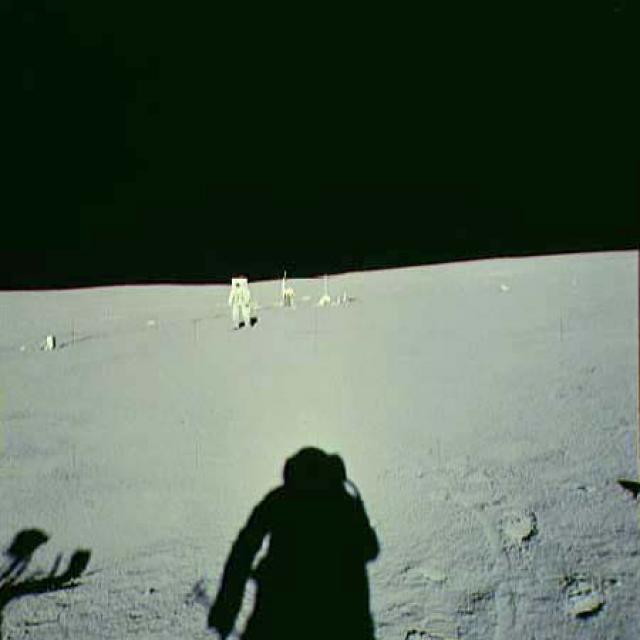crater: (0, 498, 171, 613)
